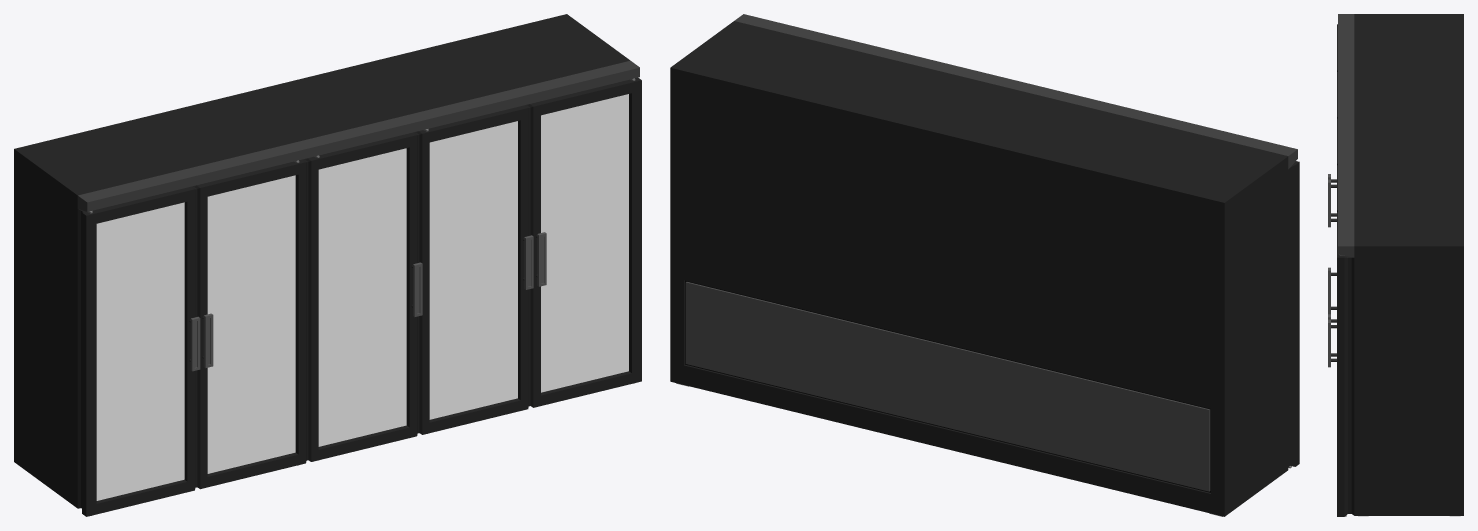
Rendered from Large Multi Freezer Dark.fbx.
3 renders of one model, left to right at view 1: azimuth 30°, elevation 25°; view 2: azimuth 150°, elevation 25°; view 3: azimuth 270°, elevation 25°, orthographic. The views are drawn at different scales.
Visible parts, largest first — view 1: Large Multi Fridge/Freezer Dark; view 2: Large Multi Fridge/Freezer Dark; view 3: Large Multi Fridge/Freezer Dark.
Part boxes in pixels (left/top/right/bottom): Large Multi Fridge/Freezer Dark: left=14, top=14, right=641, bottom=516; Large Multi Fridge/Freezer Dark: left=670, top=14, right=1299, bottom=516; Large Multi Fridge/Freezer Dark: left=1328, top=14, right=1463, bottom=516.
Bounding box in the file's own units: 363 × 197 × 89.44.
Materials: 3 (2 with a texture image).
